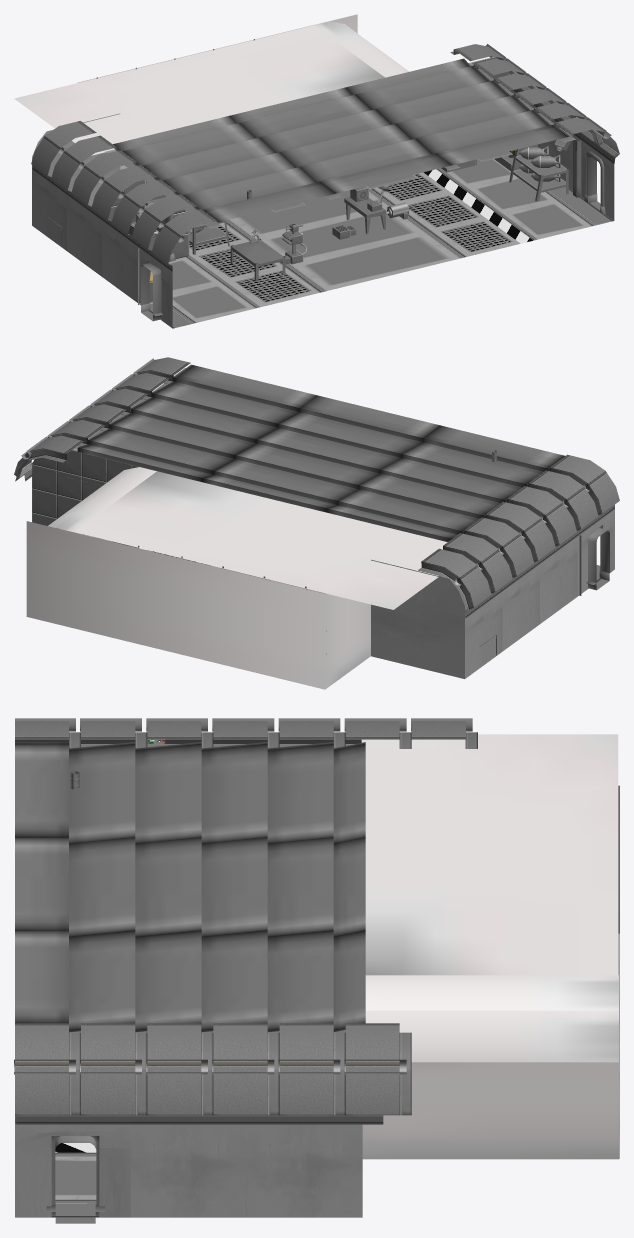
Rendered from MSH_Armory_room_L2_R3_optimized.fbx.
3 renders of one model, top to bottom at view 1: azimuth 30°, elevation 25°; view 2: azimuth 150°, elevation 25°; view 3: azimuth 270°, elevation 25°, orthographic. The views are drawn at different scales.
Visible parts, largest first — view 1: lightmap1, lightmap-1; view 2: lightmap1, lightmap-1; view 3: lightmap1.
Boxes of the visible parts, x1,y1,x2,y2 form: lightmap1: [14, 14, 619, 328]; lightmap-1: [140, 156, 600, 321]; lightmap1: [14, 357, 619, 689]; lightmap-1: [588, 528, 609, 590]; lightmap1: [14, 718, 619, 1217].
Size of the model in its own units: 30.91 by 6.62 by 21.58.
